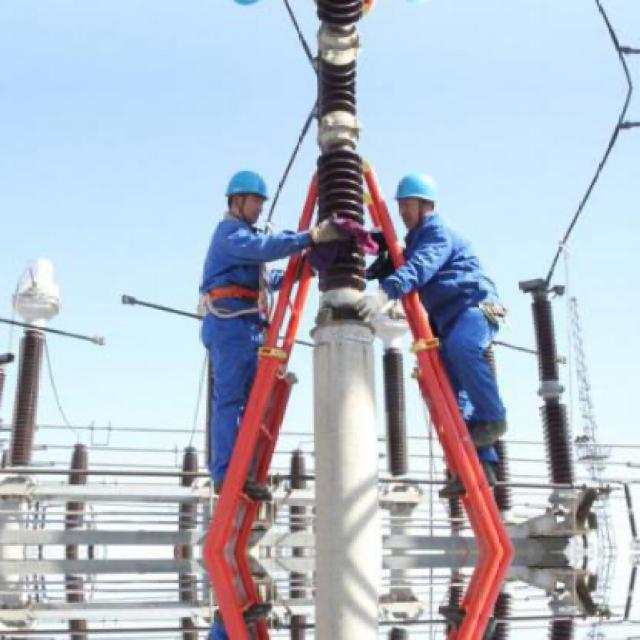helmet: (223, 165, 272, 225), (394, 170, 440, 225), (222, 0, 273, 12)
